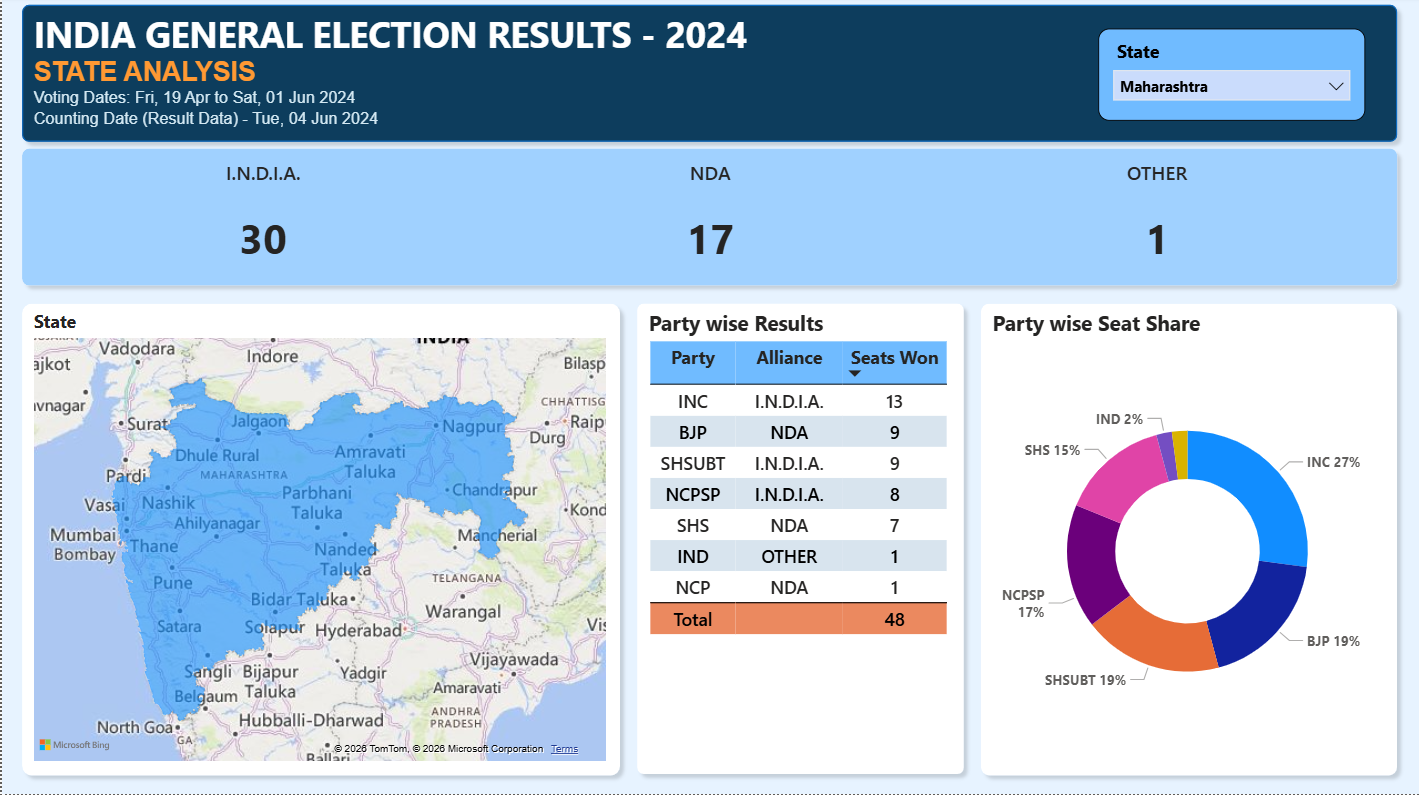

This screenshot's page, from the dashboard's own definition file:
{"tool":"powerbi","page":{"name":"State Analysis","canvas":[1280,720],"ordinal":1},"visuals":[{"type":"shape","box":[9.8,0,1255.8,139.4],"z":0},{"type":"textbox","box":[23.7,7.9,764.2,120.6],"z":1000},{"type":"shape","box":[9.8,129.6,1255.8,139.4],"z":2000},{"type":"cardVisual","fields":{"Data":["CountNonNull(constituencywise_results.Constituency Name)"],"Rows":["constituencywise_results.Party Alliance (Results)"]},"box":[9.8,139.4,1255.8,118.6],"z":3000},{"type":"slicer","fields":{"Values":["states.State"]},"box":[988,29.3,240.9,83.2],"z":4000},{"type":"shape","box":[9.8,269,555.2,441.4],"z":5000},{"type":"filledMap","title":"State","fields":{"Category":["states.State"]},"box":[23.2,281.3,525.8,413.3],"z":6000},{"type":"shape","box":[564.9,269,310.6,440.2],"z":7000},{"type":"tableEx","title":"Party wise Results","fields":{"Values":["constituencywise_results.Party Short Name","constituencywise_results.Party Alliance (Results)","CountNonNull(constituencywise_results.Constituency Name)"]},"box":[578.4,281.3,283.7,380.3],"z":8000},{"type":"shape","box":[874.3,269,391.3,441.4],"z":9000},{"type":"donutChart","title":"Party wise Seat Share","fields":{"Category":["constituencywise_results.Party Short Name"],"Y":["CountNonNull(constituencywise_results.Constituency Name)"]},"box":[887.8,281.3,362,413.3],"z":10000}]}

Visuals, with their boxes in screenshot pixels (x1, y1, x2, y2), scaled from the page's 1280x720 canvas onto the 1419x795 screenshot:
shape: select_region(11, 0, 1403, 154)
textbox: select_region(26, 9, 873, 142)
shape: select_region(11, 143, 1403, 297)
cardVisual - CountNonNull(constituencywise_results.Constituency Name) x constituencywise_results.Party Alliance (Results): select_region(11, 154, 1403, 285)
slicer - states.State: select_region(1095, 32, 1362, 124)
shape: select_region(11, 297, 626, 784)
"State" filledMap: select_region(26, 311, 609, 767)
shape: select_region(626, 297, 971, 783)
"Party wise Results" tableEx: select_region(641, 311, 956, 731)
shape: select_region(969, 297, 1403, 784)
"Party wise Seat Share" donutChart: select_region(984, 311, 1386, 767)
